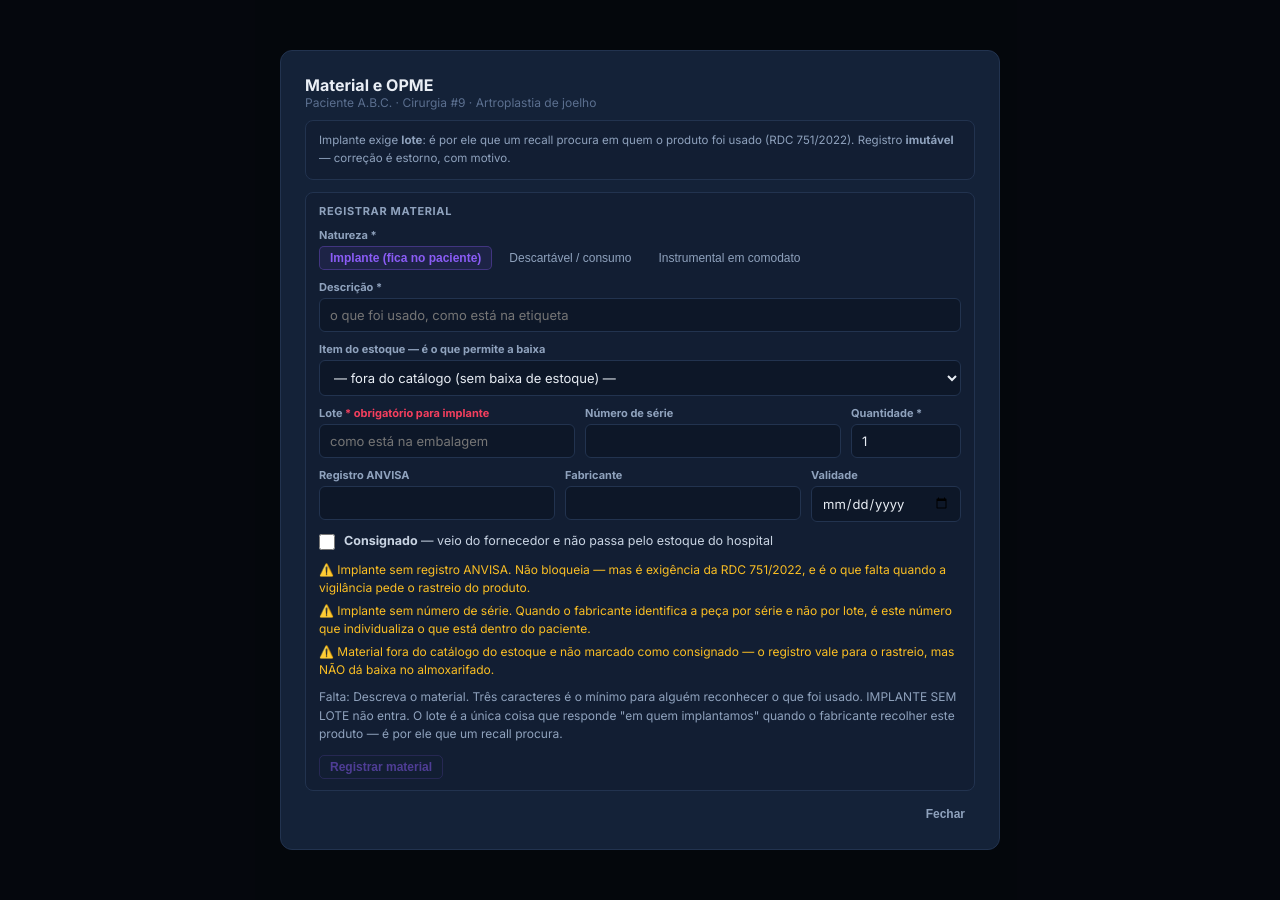
Scenario: 🔴 o próximo item não herda dado do anterior › 🔴 na TELA: depois de gravar um consignado, o próximo não nasce consignado
The width and height of the screenshot is (1280, 900).
In the field with placeholder "o que foi usado, como está na etiqueta": coordinates (640, 315) [319,298,961,332], type "Protese"
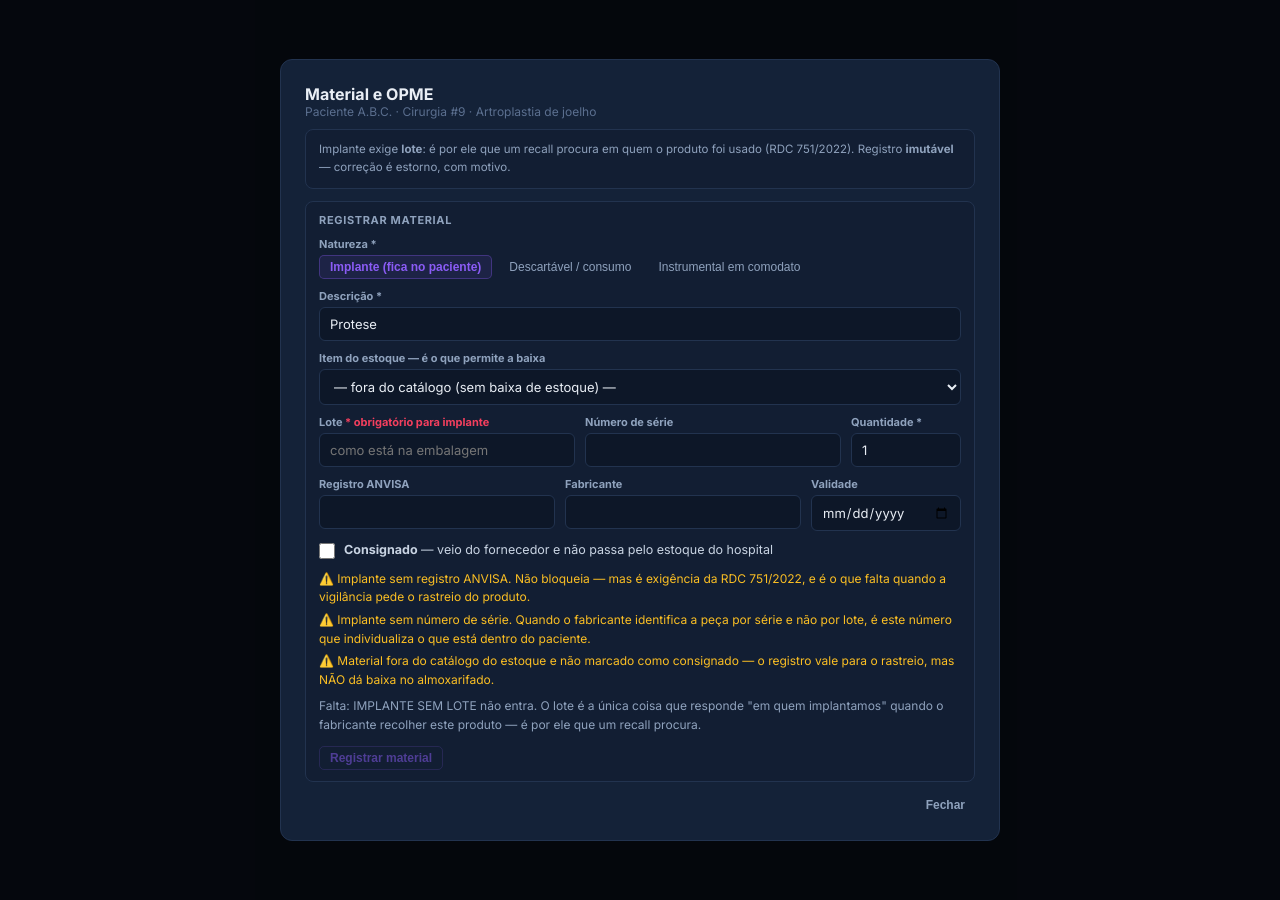
In the field with placeholder "como está na embalagem": coordinates (447, 450) [319,433,575,467], type "LOT-A77"
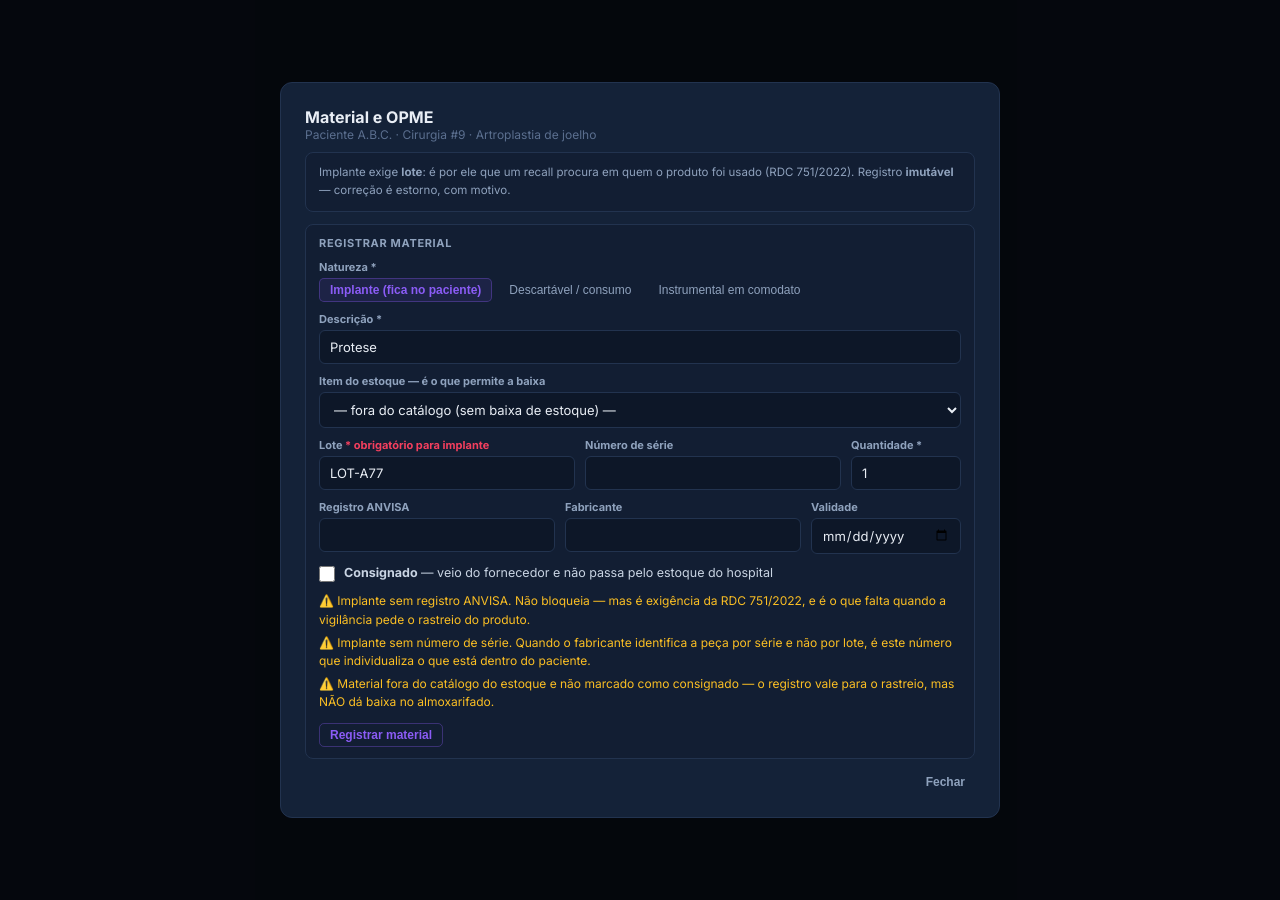
Click the checkbox: coordinates (327, 574) [319,566,335,582]
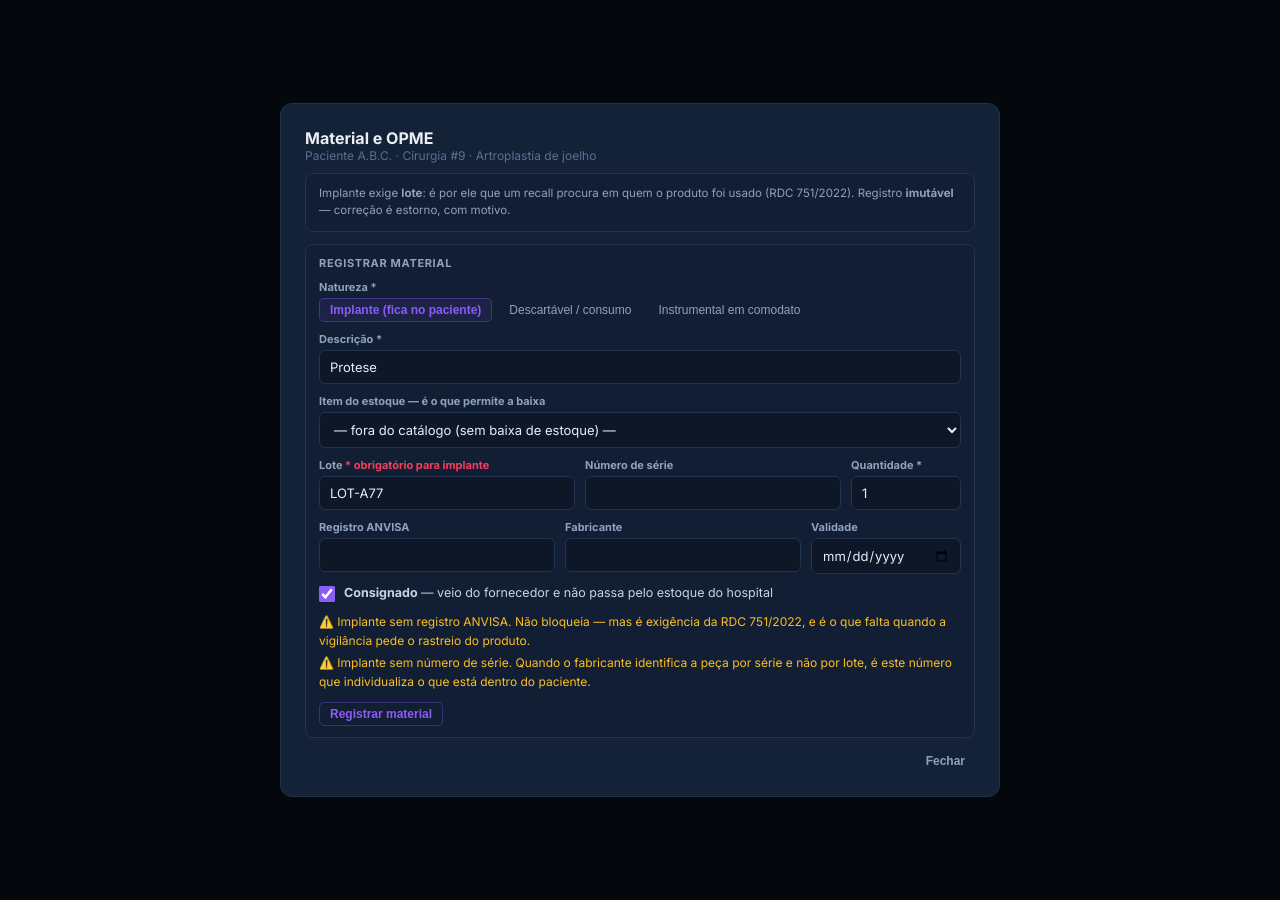
Expected: the checkbox is checked, [319,586,335,602]
Click the button "Registrar material": coordinates (381, 714) [319,702,443,726]
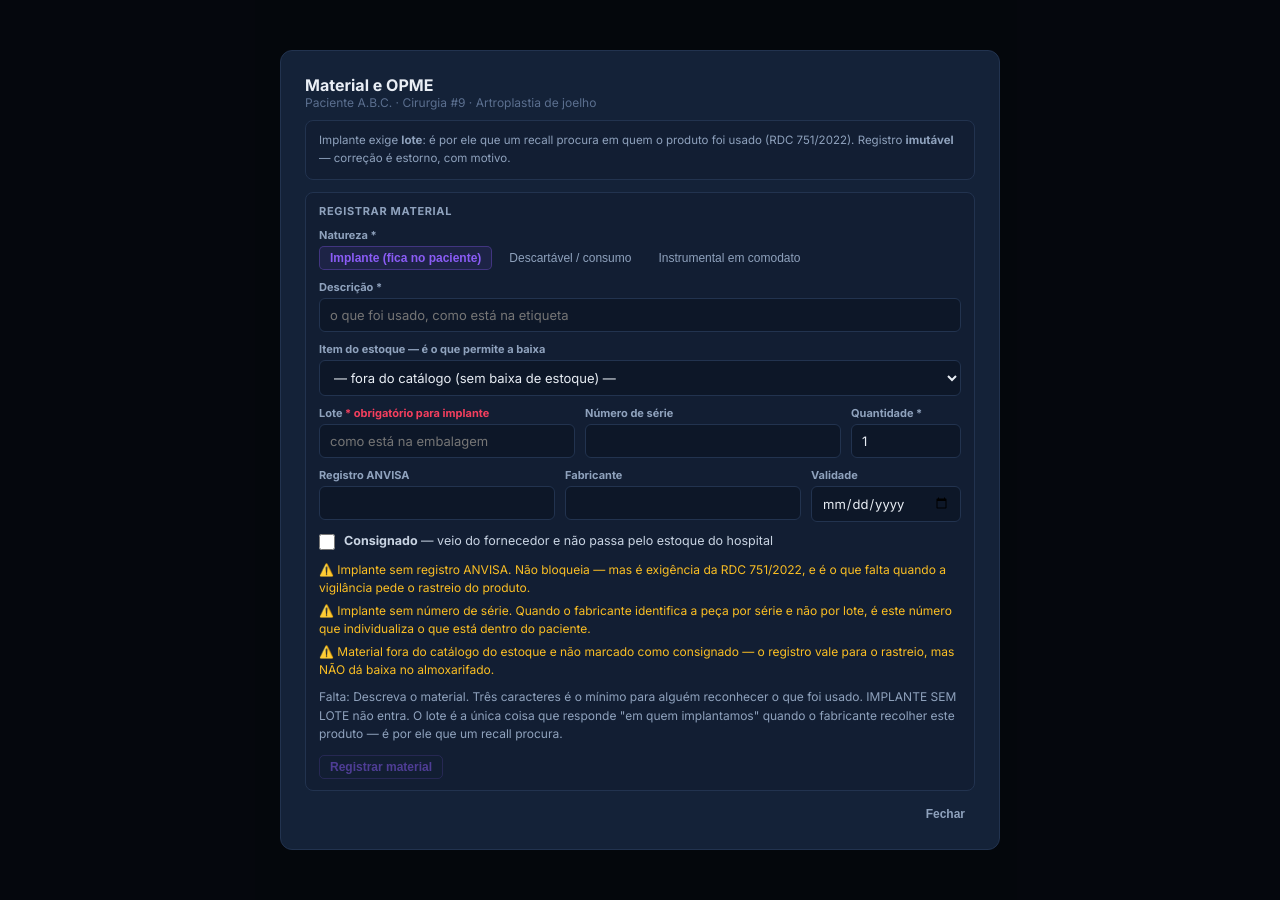
Expected: the checkbox is not checked, [319,534,335,550]
Expected: the field with placeholder "o que foi usado, como está na etiqueta" is empty, [319,298,961,332]
Expected: the field with placeholder "como está na embalagem" is empty, [319,424,575,458]
